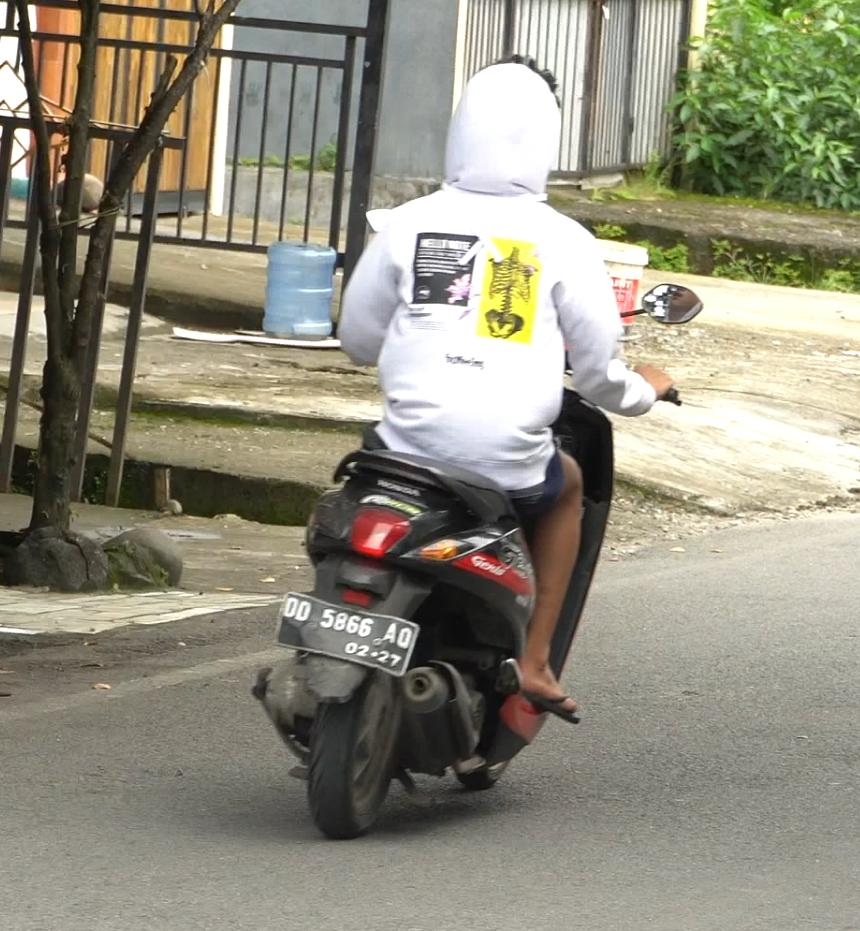number-plate: (266, 593, 433, 675)
